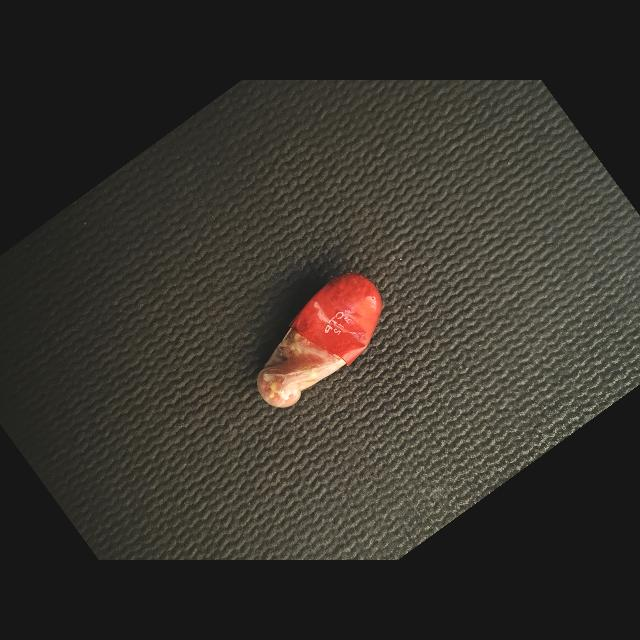Defective Capsule: (257, 274, 381, 408)
